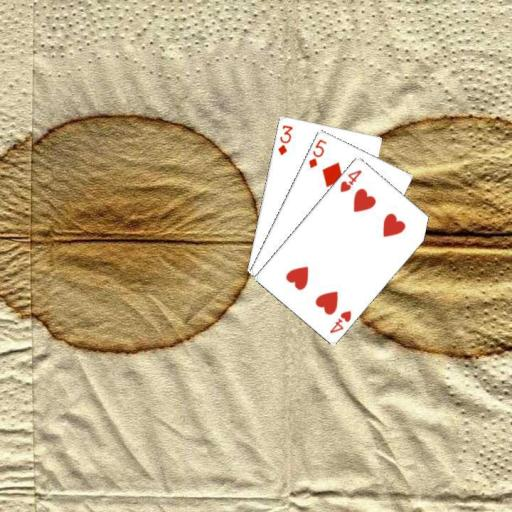3D: (275, 122, 295, 157)
4H: (326, 307, 353, 335), (337, 167, 363, 194)
5D: (305, 136, 328, 169)
